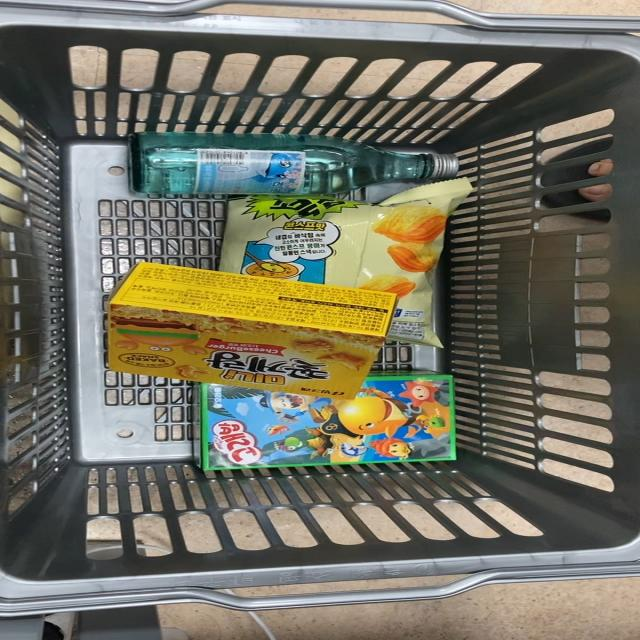ggobukchip: (212, 194, 493, 287)
goraebob: (191, 379, 483, 471)
jinro: (114, 131, 453, 198)
minicrab: (108, 264, 388, 394)
